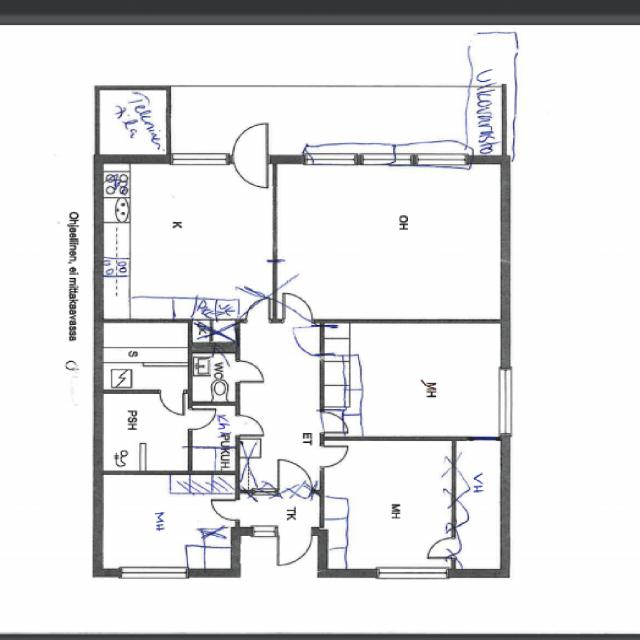door: (232, 155, 268, 195), (232, 124, 268, 164), (278, 528, 312, 567), (438, 89, 472, 116), (290, 327, 324, 353), (166, 91, 197, 114), (235, 361, 264, 383), (320, 446, 349, 468), (188, 409, 216, 430), (160, 390, 183, 414), (213, 500, 239, 520), (235, 416, 262, 435)
